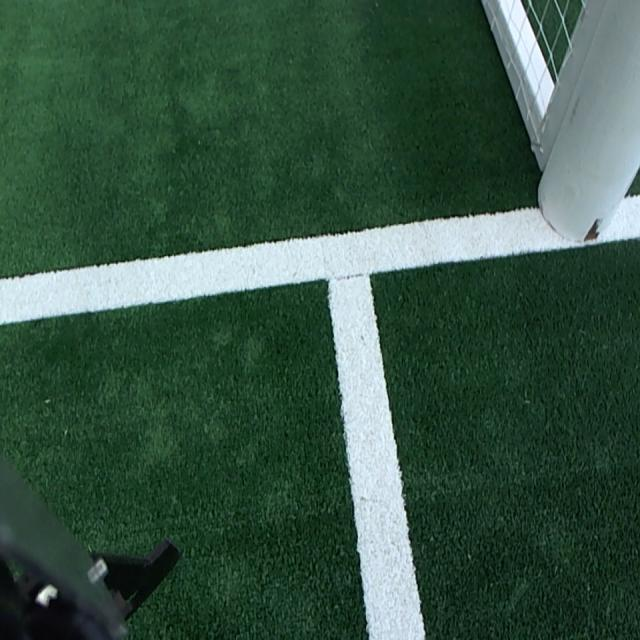goalpost: (530, 0, 638, 249)
